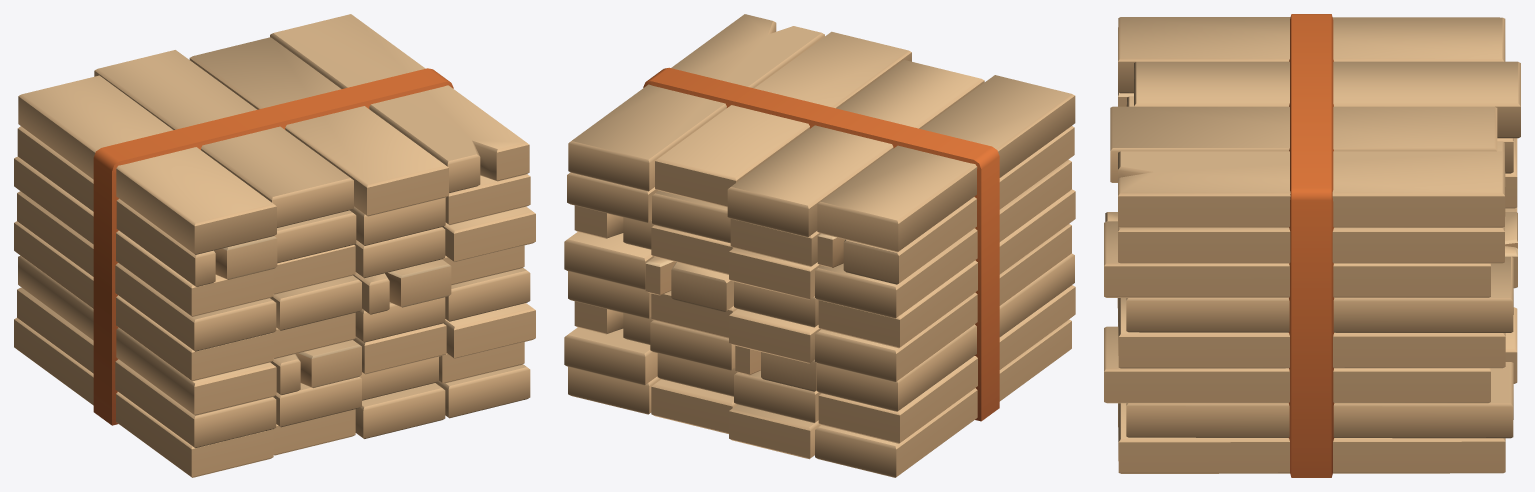
The model's file is Wood_Planks_Stack_Large.glb.
3 views of the same model, side by side, from view 1: azimuth 30°, elevation 25°; view 2: azimuth 150°, elevation 25°; view 3: azimuth 270°, elevation 25° (orthographic). The views are drawn at different scales.
Visible parts, largest first — view 1: Wood_Planks_Stack_Large; view 2: Wood_Planks_Stack_Large; view 3: Wood_Planks_Stack_Large.
Boxes of the visible parts, <box> form: Wood_Planks_Stack_Large: <box>14,14,535,477</box>; Wood_Planks_Stack_Large: <box>564,14,1075,477</box>; Wood_Planks_Stack_Large: <box>1104,14,1520,477</box>.
Bounding box in the file's own units: 1.67 × 1.22 × 1.62.
Materials: 1 (1 with a texture image).
